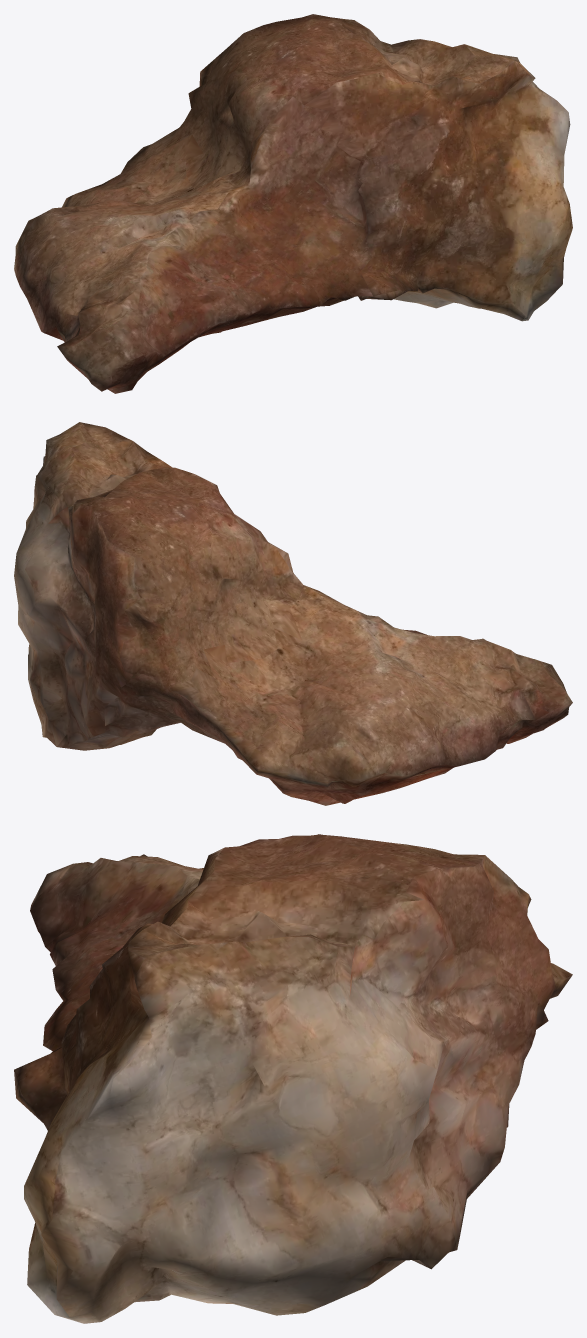
The model's file is stone_01.glb.
3 views of the same model, one above another, from view 1: azimuth 30°, elevation 25°; view 2: azimuth 150°, elevation 25°; view 3: azimuth 270°, elevation 25° (orthographic). The views are drawn at different scales.
Visible parts, largest first — view 1: stone_01_lod0; view 2: stone_01_lod0; view 3: stone_01_lod0.
Part boxes in pixels (bbox=[...]): stone_01_lod0: bbox=[14, 14, 572, 393]; stone_01_lod0: bbox=[14, 422, 572, 805]; stone_01_lod0: bbox=[14, 834, 572, 1323].
Size of what is drawn, in the model's own units: 0.1462 by 0.0716 by 0.0889.
1 material, 1 textured.
